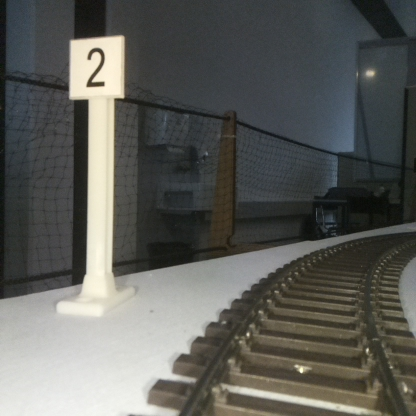white-info-2: (69, 35, 124, 311)
